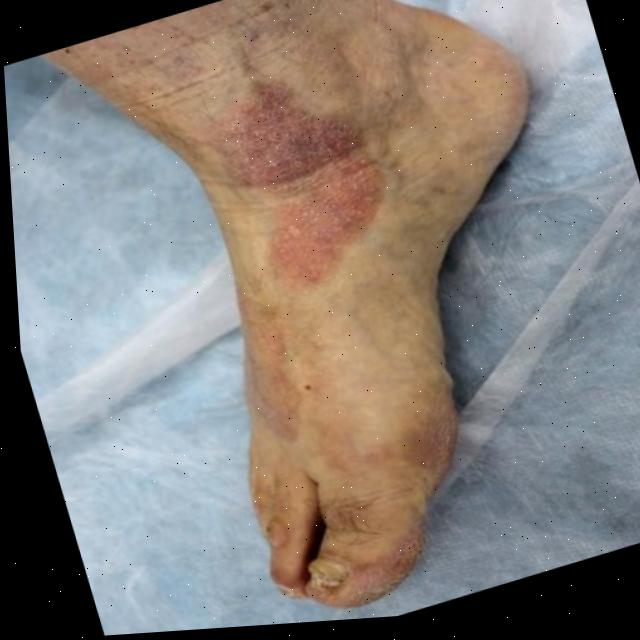Eczema: (236, 107, 393, 275)
